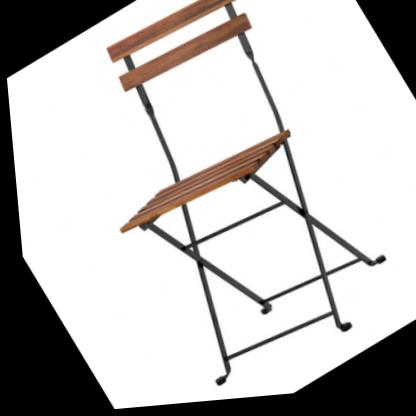Chair: (22, 0, 416, 414)
